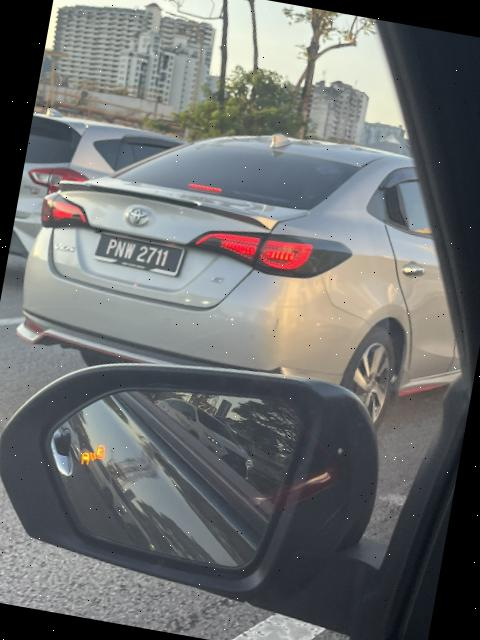License_Plate: (85, 225, 194, 290)
car: (22, 90, 480, 442)
